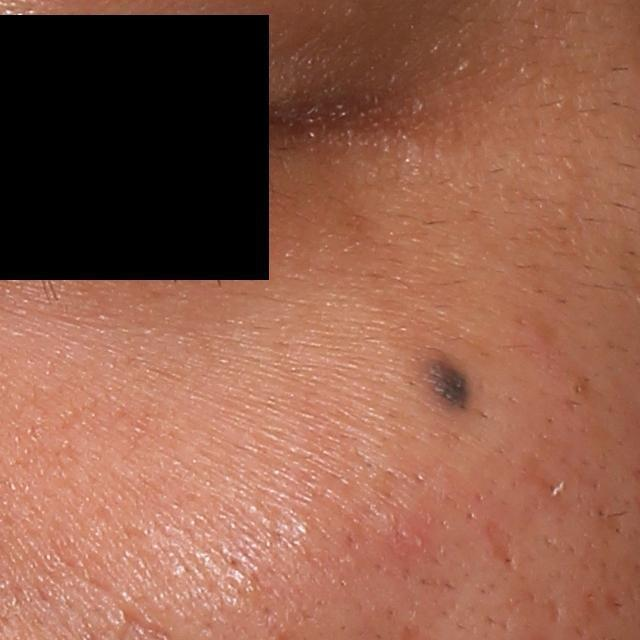atrophic_scar: (478, 515, 512, 565)
nevus: (419, 356, 465, 409)
